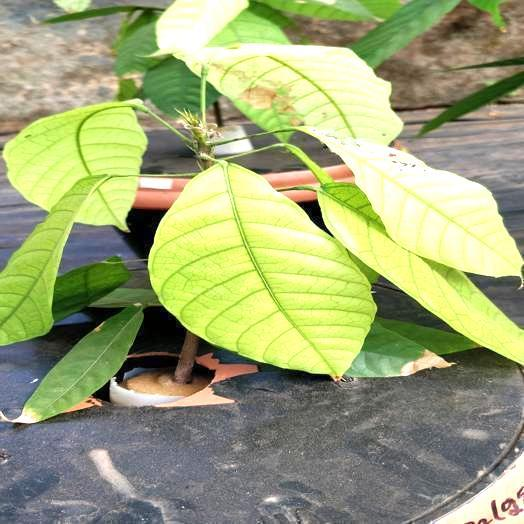Healthy Leaf: (11, 306, 143, 422), (351, 0, 460, 67), (344, 322, 450, 377), (53, 257, 130, 321), (377, 317, 479, 354), (143, 58, 199, 115), (115, 19, 164, 75), (207, 84, 220, 106)
Iron: (149, 164, 374, 376), (317, 183, 523, 363), (306, 127, 522, 276), (186, 44, 402, 144), (0, 176, 108, 344), (4, 102, 146, 229), (152, 0, 248, 57), (208, 6, 290, 46)
